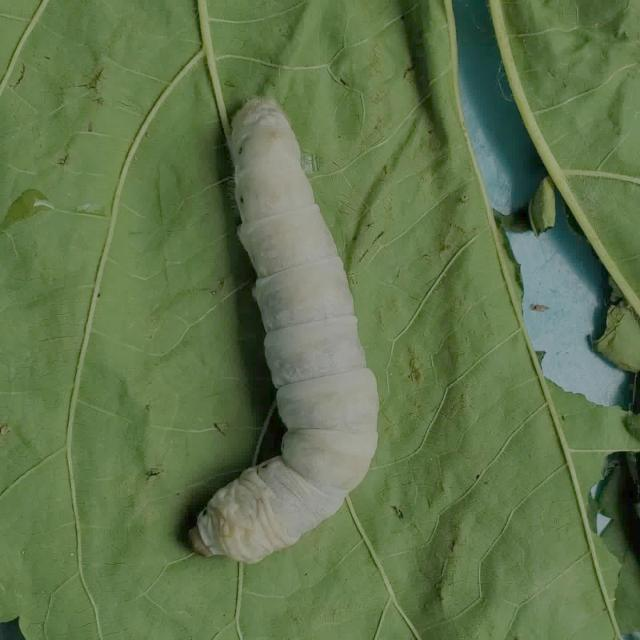Grasserie: (171, 67, 405, 579)
